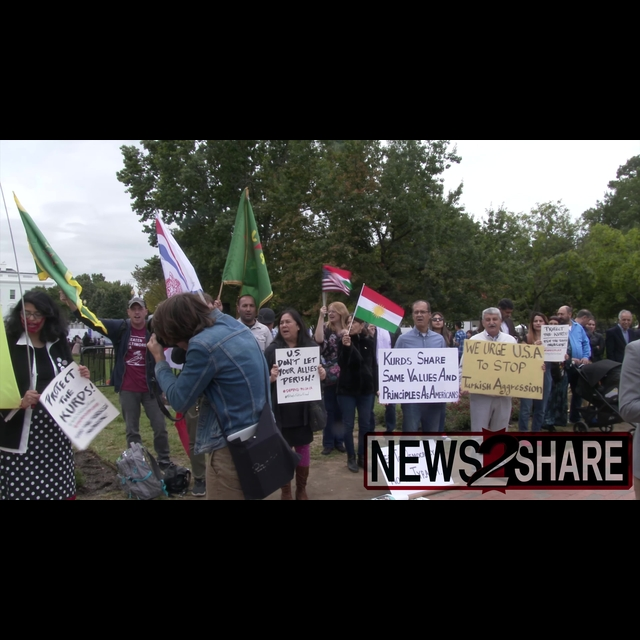IBKY: (356, 286, 404, 335)
